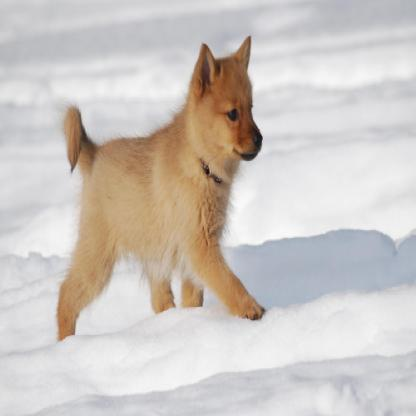finnish spitz: (36, 3, 294, 356)
